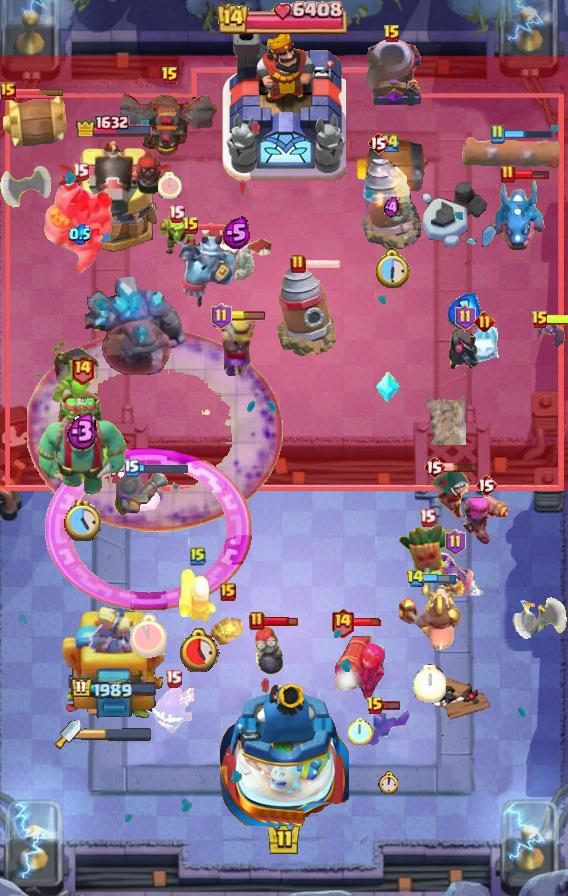axe: (512, 584, 568, 642), (0, 166, 52, 226)
bandit: (420, 468, 482, 518)
bar: (502, 128, 554, 140), (138, 462, 189, 474), (197, 222, 251, 231), (11, 87, 65, 96), (443, 461, 480, 473), (304, 258, 341, 270), (263, 615, 298, 627), (514, 169, 550, 180), (422, 573, 457, 584), (230, 311, 266, 321), (352, 617, 384, 627), (546, 313, 568, 326), (382, 700, 401, 711)
bar-level: (330, 607, 355, 638), (70, 354, 95, 385), (445, 529, 466, 555), (455, 304, 476, 330), (211, 303, 232, 329), (475, 473, 497, 497), (423, 455, 445, 479), (367, 131, 389, 155), (474, 311, 495, 332), (381, 132, 401, 153), (406, 569, 425, 588), (366, 696, 384, 716), (531, 310, 549, 330), (182, 216, 200, 236), (161, 66, 179, 86), (383, 24, 401, 44), (165, 669, 182, 688), (419, 508, 436, 527), (168, 204, 185, 223), (72, 162, 89, 181), (249, 611, 265, 631), (190, 546, 206, 566), (290, 254, 306, 274), (500, 164, 516, 184), (489, 124, 505, 144), (220, 583, 236, 601), (124, 459, 140, 477), (0, 82, 16, 100)
barbarian-barrel: (354, 140, 434, 200), (0, 95, 74, 147)
barbarian-evolution: (210, 312, 260, 378)
bat: (534, 318, 568, 350)
bat-evolution: (365, 711, 411, 749)
bomber: (252, 625, 284, 675)
cannoneer-tower: (53, 138, 175, 256)
clock: (177, 627, 220, 672), (130, 613, 167, 658), (64, 500, 101, 541), (373, 248, 410, 289), (413, 665, 446, 703), (348, 717, 373, 745), (158, 172, 182, 199), (378, 771, 398, 794)
dagger-duchess-tower: (60, 607, 168, 731)
dagger-duchess-tower-bar: (81, 727, 153, 741)
dart-goblin: (397, 523, 457, 599)
dirt: (427, 395, 467, 445)
electro-dragon: (490, 178, 546, 252)
electro-spirit: (152, 688, 194, 734)
elixir: (66, 411, 99, 451), (448, 293, 482, 329), (222, 216, 251, 250), (69, 223, 91, 245), (384, 197, 399, 218)
firecracker: (461, 493, 511, 547), (177, 566, 219, 624)
firecracker-evolution: (331, 622, 389, 702)
goblin: (155, 216, 197, 258)
goblin-ball: (51, 344, 101, 404)
ice-spirit: (463, 326, 505, 372)
ice-spirit-evolution-symbol: (375, 371, 401, 403)
king-tower: (220, 678, 349, 826), (222, 31, 346, 181)
king-tower-bar: (217, 0, 351, 34)
knight-evolution: (424, 552, 486, 599)
lava-pup: (208, 605, 248, 649)
mega-minion: (176, 231, 236, 309)
mini-pekka: (446, 320, 484, 374)
mortar-evolution: (360, 39, 424, 109)
musketeer: (111, 467, 171, 521)
the-log: (460, 134, 562, 174)
tower-bar: (70, 677, 158, 701), (75, 112, 154, 137)
